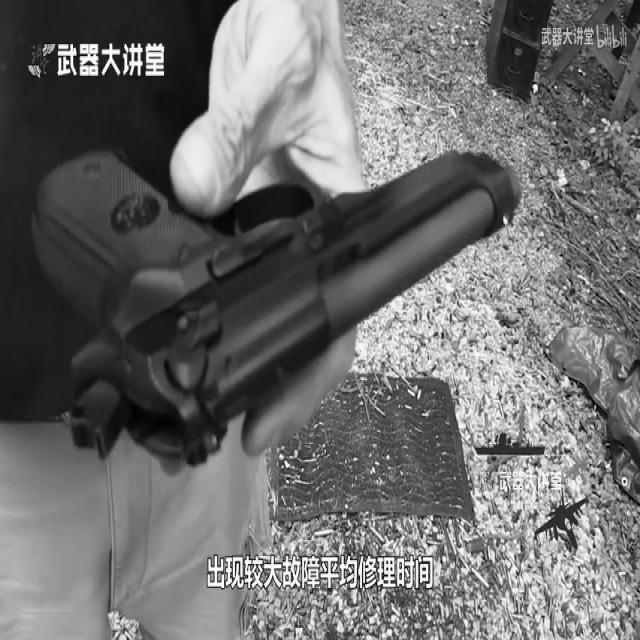Hand-Gun: (36, 28, 552, 542)
